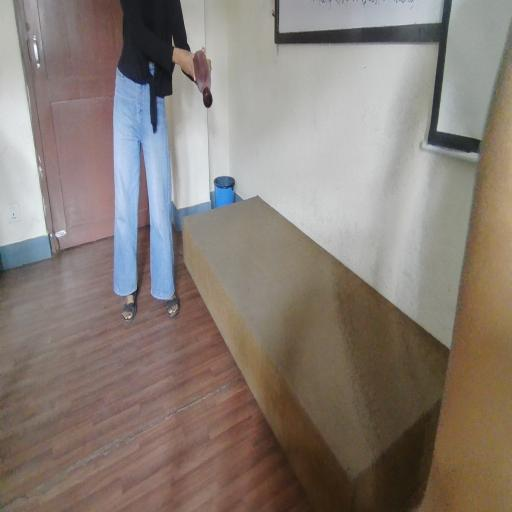Bottle: (193, 40, 223, 134)
